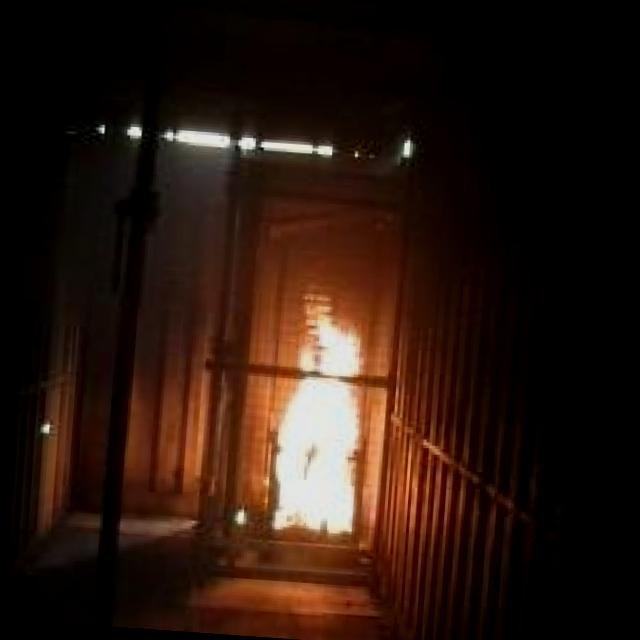fire: (257, 284, 389, 551)
